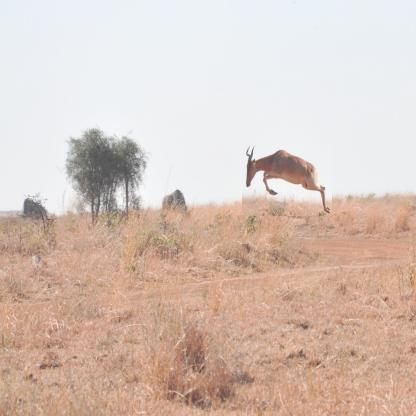Deer: (242, 144, 332, 216)
